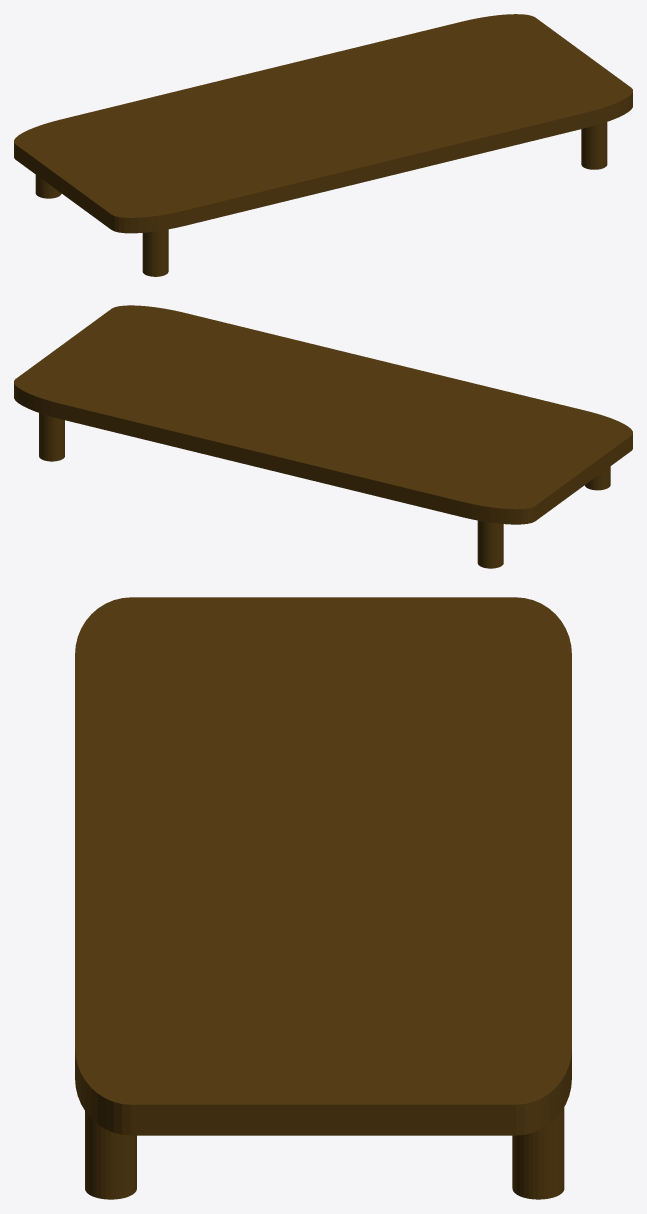
Rendered from table 1.fbx.
3 renders of one model, top to bottom at view 1: azimuth 30°, elevation 25°; view 2: azimuth 150°, elevation 25°; view 3: azimuth 270°, elevation 25°, orthographic. The views are drawn at different scales.
Parts seen in each view (by area): view 1: Cylinder.005; view 2: Cylinder.005; view 3: Cylinder.005.
Part boxes in pixels (<box>): Cylinder.005: <box>14,14,632,276</box>; Cylinder.005: <box>14,305,632,568</box>; Cylinder.005: <box>75,597,571,1199</box>.
Bounding box in the file's own units: 857 × 98.46 × 355.
